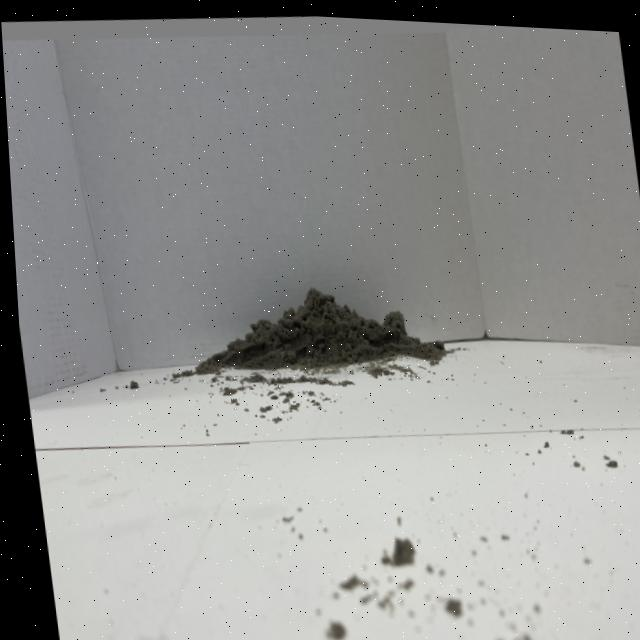sand: (185, 262, 436, 388)
